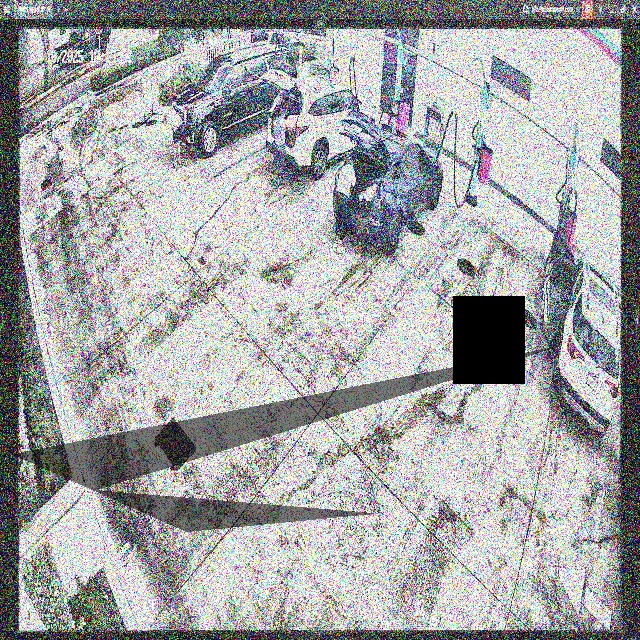Car: (334, 107, 443, 255), (262, 65, 378, 178)
